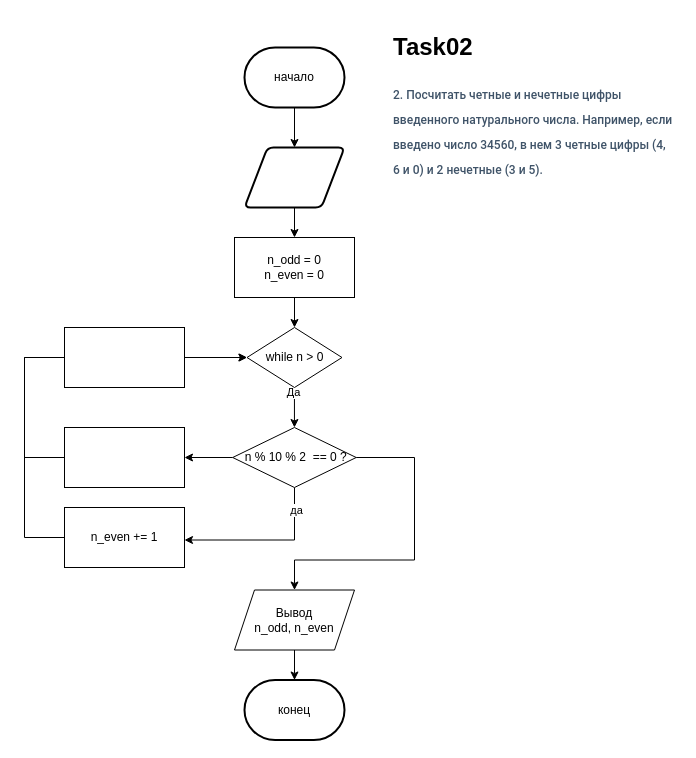
The diagram is 696 pixels wide and 758 high, and some of its shapes have lost their labels. Each missing label, with the centre of its shape:
"n //=10" belongs at point 124,357.
"n_odd +=1" belongs at point 124,457.
"ввод n" belongs at point 294,177.
